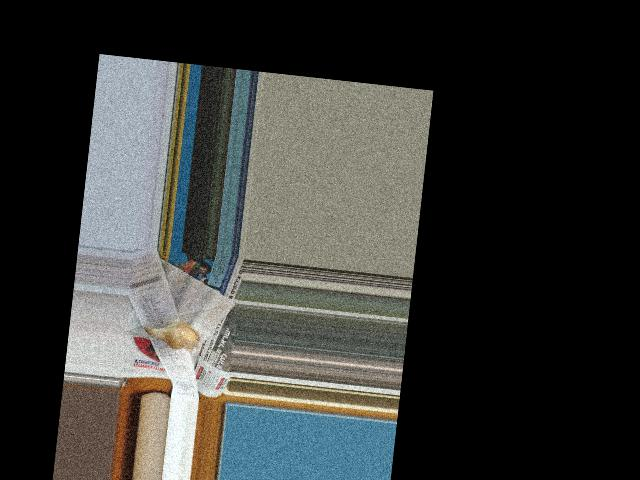onion: (148, 319, 199, 348)
